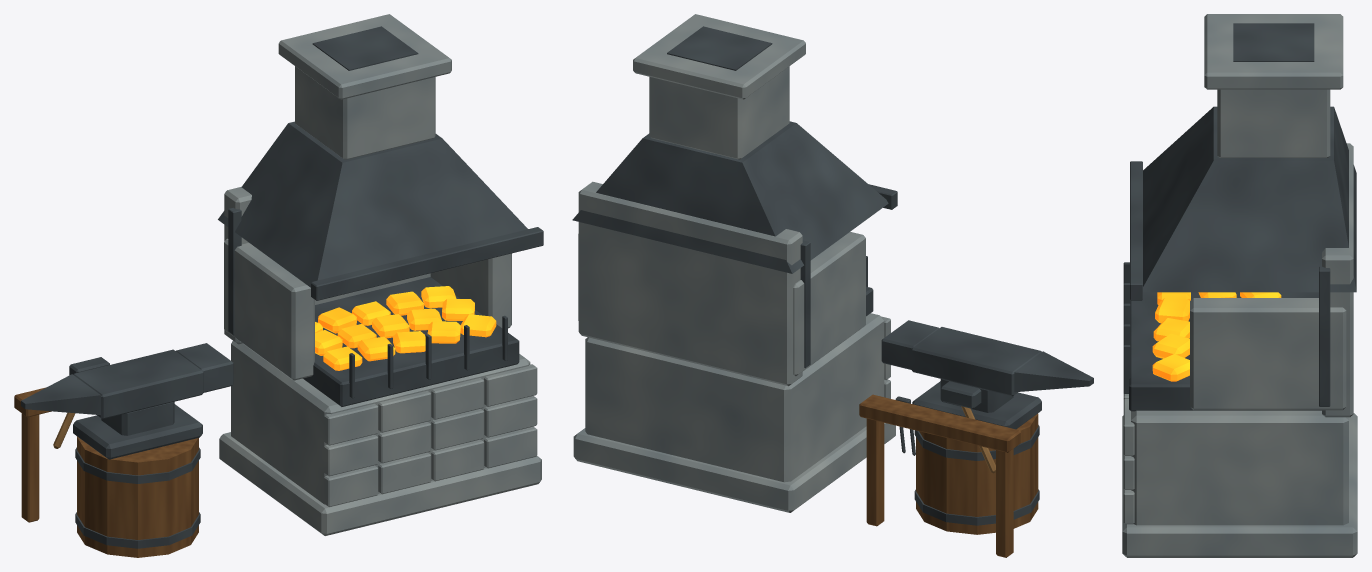
File: camp_forge.glb
3 views of the same model, side by side, from view 1: azimuth 30°, elevation 25°; view 2: azimuth 150°, elevation 25°; view 3: azimuth 270°, elevation 25° (orthographic). The views are drawn at different scales.
Visible parts, largest first — view 1: CampForge_Mesh; view 2: CampForge_Mesh; view 3: CampForge_Mesh.
Part boxes in pixels (bbox=[...]): CampForge_Mesh: bbox=[14, 14, 543, 557]; CampForge_Mesh: bbox=[572, 14, 1093, 557]; CampForge_Mesh: bbox=[1122, 14, 1357, 557].
Bounding box in the file's own units: 3.21 × 2.69 × 1.25.
Materials: 1 (1 with a texture image).
